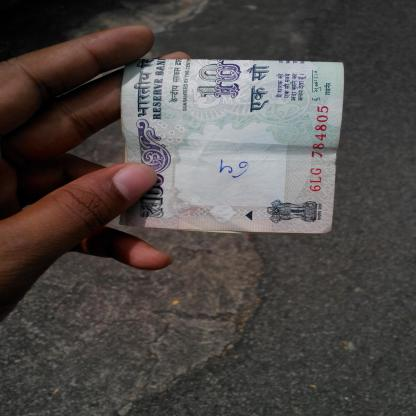Old100Front: (119, 57, 344, 234)
